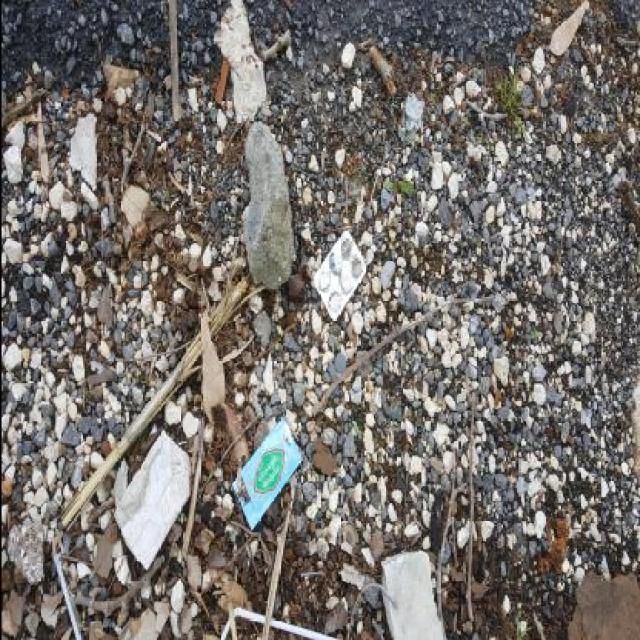paper: (416, 341, 529, 408)
plastic: (230, 275, 319, 328)
